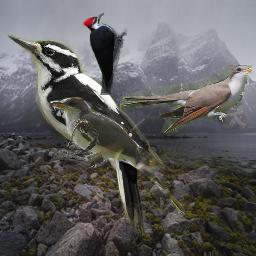Cuckoo: (49, 97, 185, 214), (120, 65, 252, 133)
Woodpecker: (6, 29, 165, 237), (81, 12, 127, 95)
